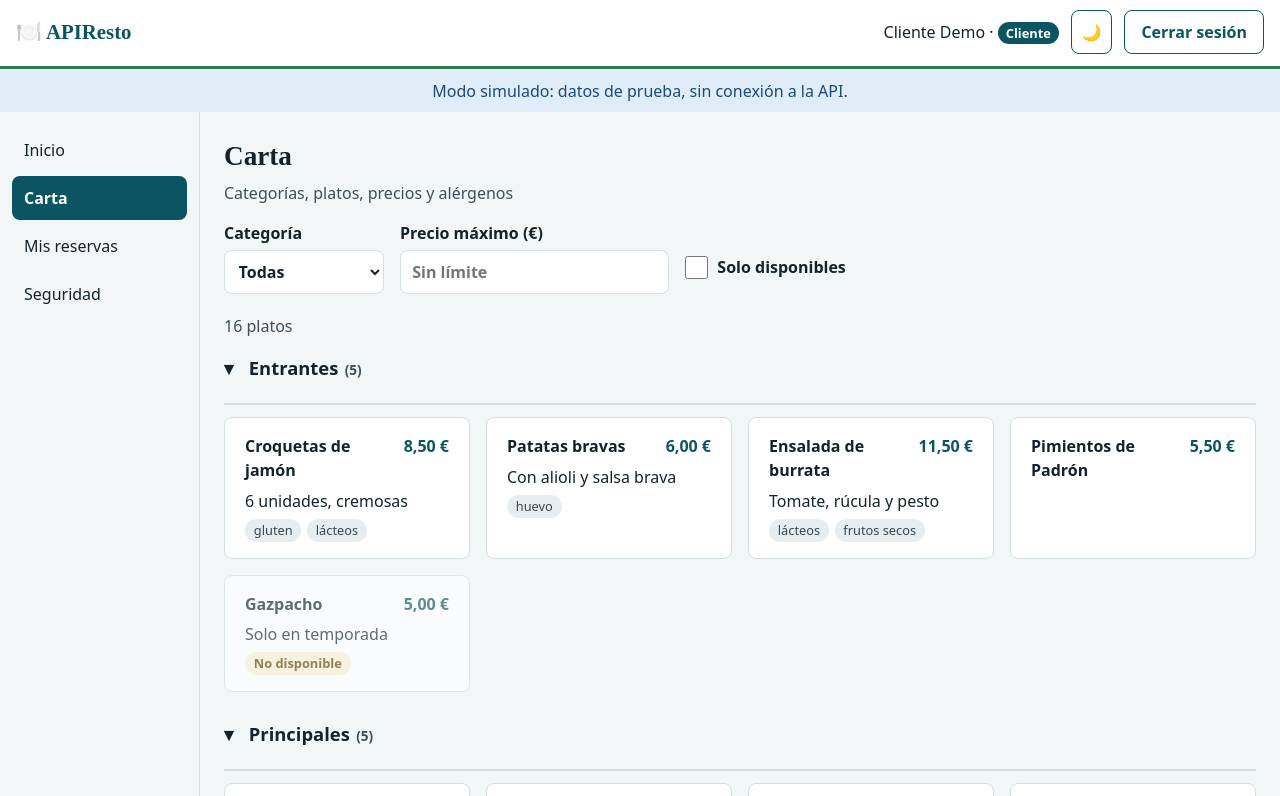
Test: Carta › cada sección se puede plegar y desplegar
Expected: the text "Croquetas de jamón" is shown, [245,435,350,481]
Click the button "Entrantes (5)".
click(294, 367)  # box [224,354,1256,398]
(page scrolled)
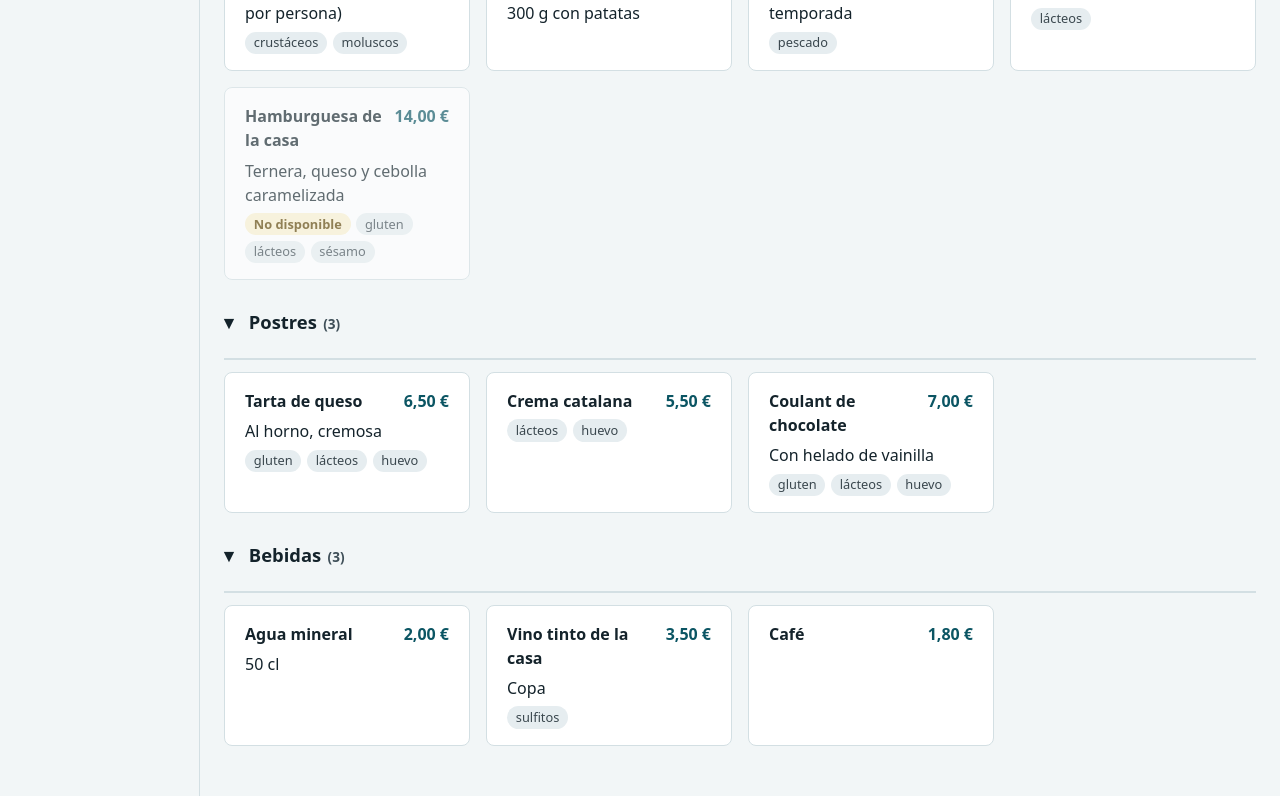
Expected: the text "Tarta de queso" is shown, [245,389,362,413]
Now the text "Croquetas de jamón" is gone
Press Enter
(page scrolled)
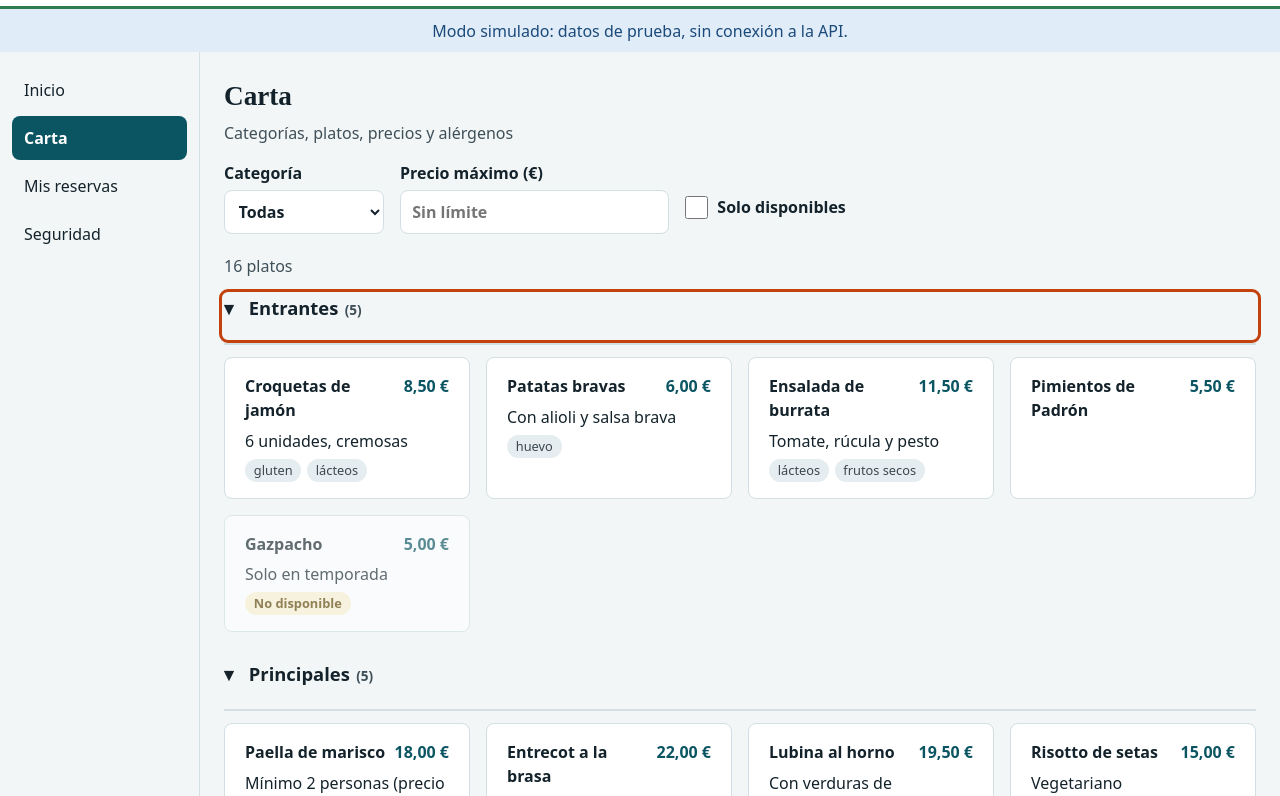
Now the button "Entrantes (5)" is expanded, box [224,294,1256,338]
Now the text "Croquetas de jamón" is shown, box [245,375,350,421]
